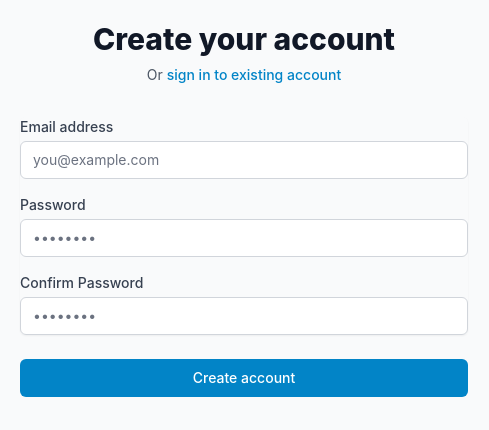
Scenario: Auth UI - MVP Tests › [AUTH] Password Validation › should require password confirmation to match
The width and height of the screenshot is (489, 430).
Type "test@example.com" into the field labelled "Email address" at (244, 160), box [20, 141, 468, 179]
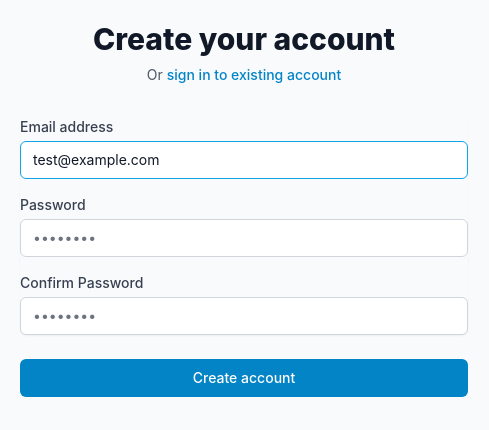
Type "password123" into the password field labelled "Password" at (244, 238), box [20, 219, 468, 257]
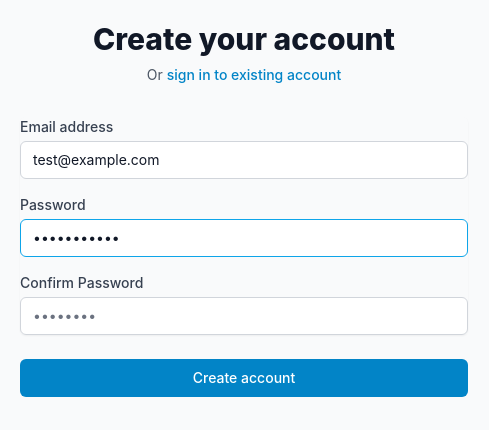
Type "different123" into the password field labelled "Confirm Password" at (244, 316), box [20, 297, 468, 335]
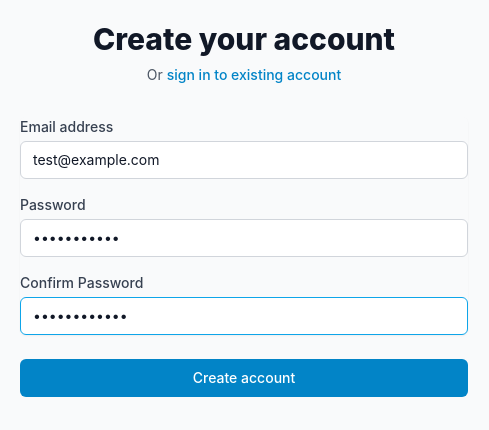
Click the button "Create account" at (244, 378), box [20, 359, 468, 397]
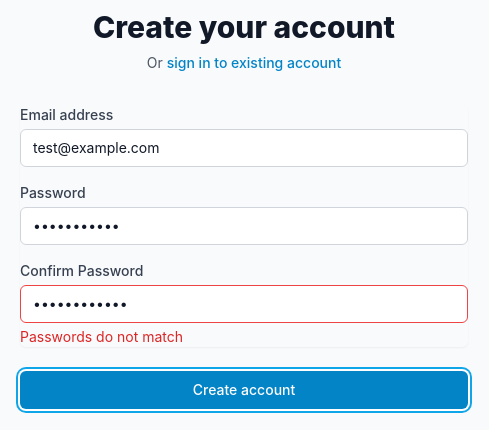
Expected: the text "Passwords do not match" is shown, [20, 328, 183, 345]
